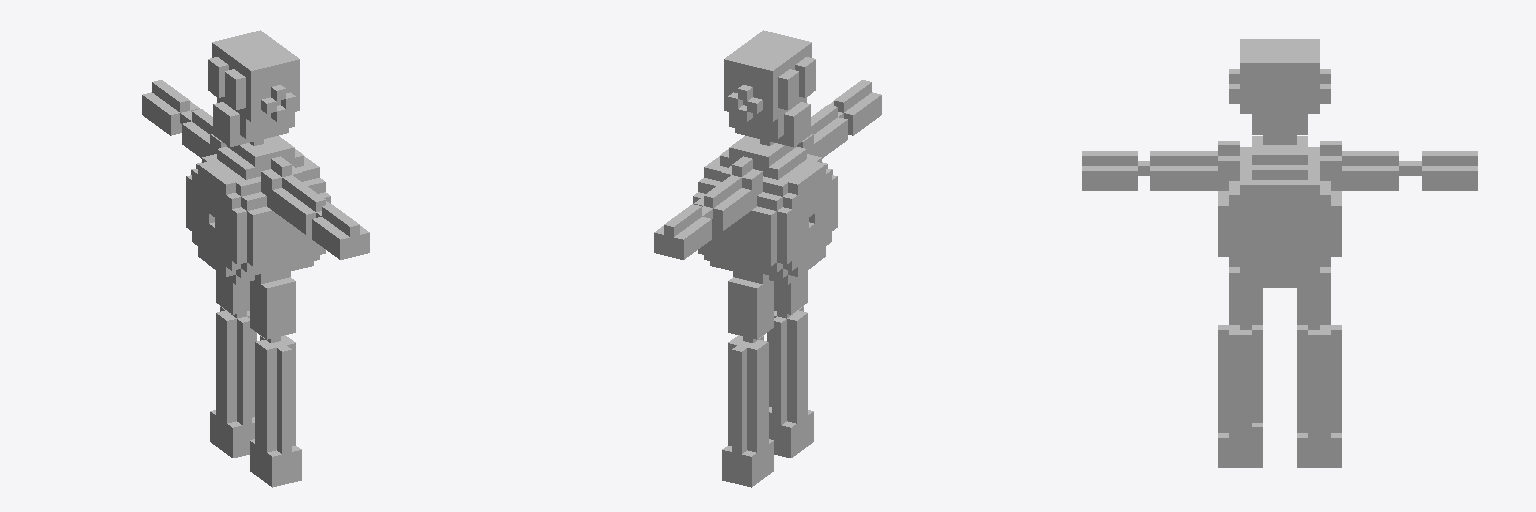
The model's file is orange monster.obj.
3 views of the same model, side by side, from view 1: azimuth 30°, elevation 25°; view 2: azimuth 150°, elevation 25°; view 3: azimuth 270°, elevation 25° (orthographic).
Visible parts, largest first — view 1: orange monster; view 2: orange monster; view 3: orange monster.
Boxes of the visible parts, x1=… form: orange monster: x1=142, y1=30, x2=369, y2=487; orange monster: x1=654, y1=30, x2=881, y2=487; orange monster: x1=1082, y1=39, x2=1477, y2=467.
Size of the model in its own units: 9 by 40 by 35.